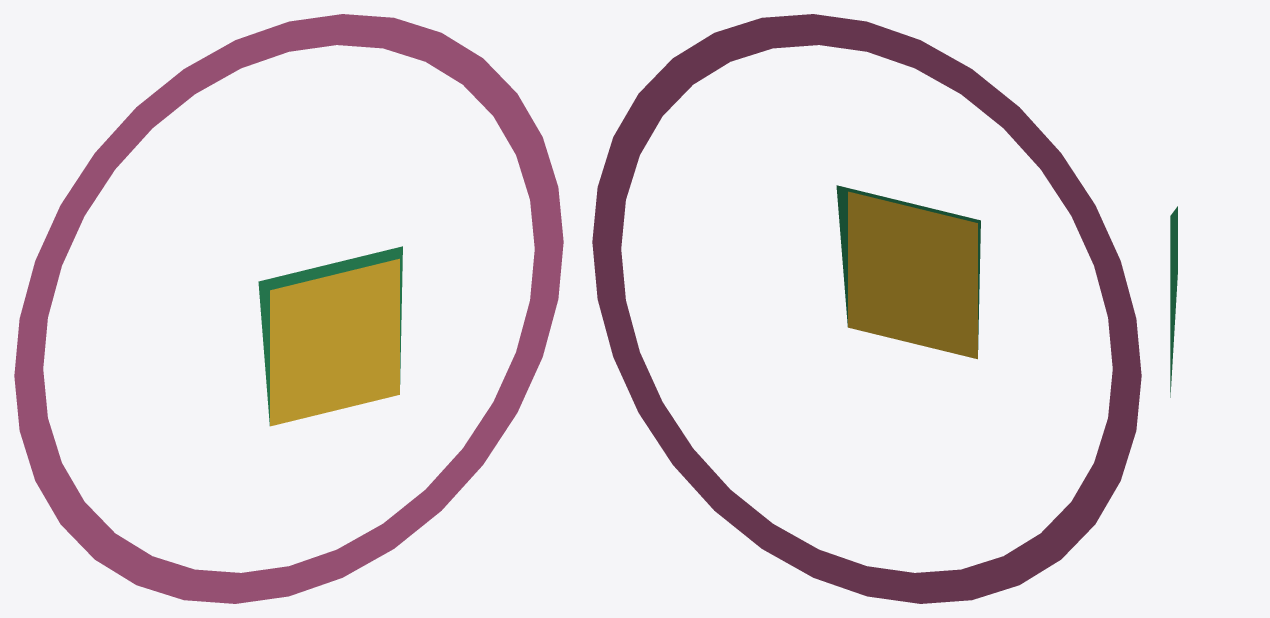
Rendered from chest.obj.
3 views of the same model, side by side, from view 1: azimuth 30°, elevation 25°; view 2: azimuth 150°, elevation 25°; view 3: azimuth 270°, elevation 25° (orthographic). The views are drawn at different scales.
Visible parts, largest first — view 1: Circle8, Center0, Borders0; view 2: Circle8, Center0, Borders0; view 3: Borders0.
Part boxes in pixels (x1,y1,x2,y2): Circle8: (14,14,563,603); Center0: (270,258,399,426); Borders0: (258,246,402,425); Circle8: (592,14,1141,603); Center0: (848,191,977,359); Borders0: (836,185,980,349); Borders0: (1170,206,1177,397).
Bounding box in the file's own units: 3.8 × 3.8 × 0.55.
